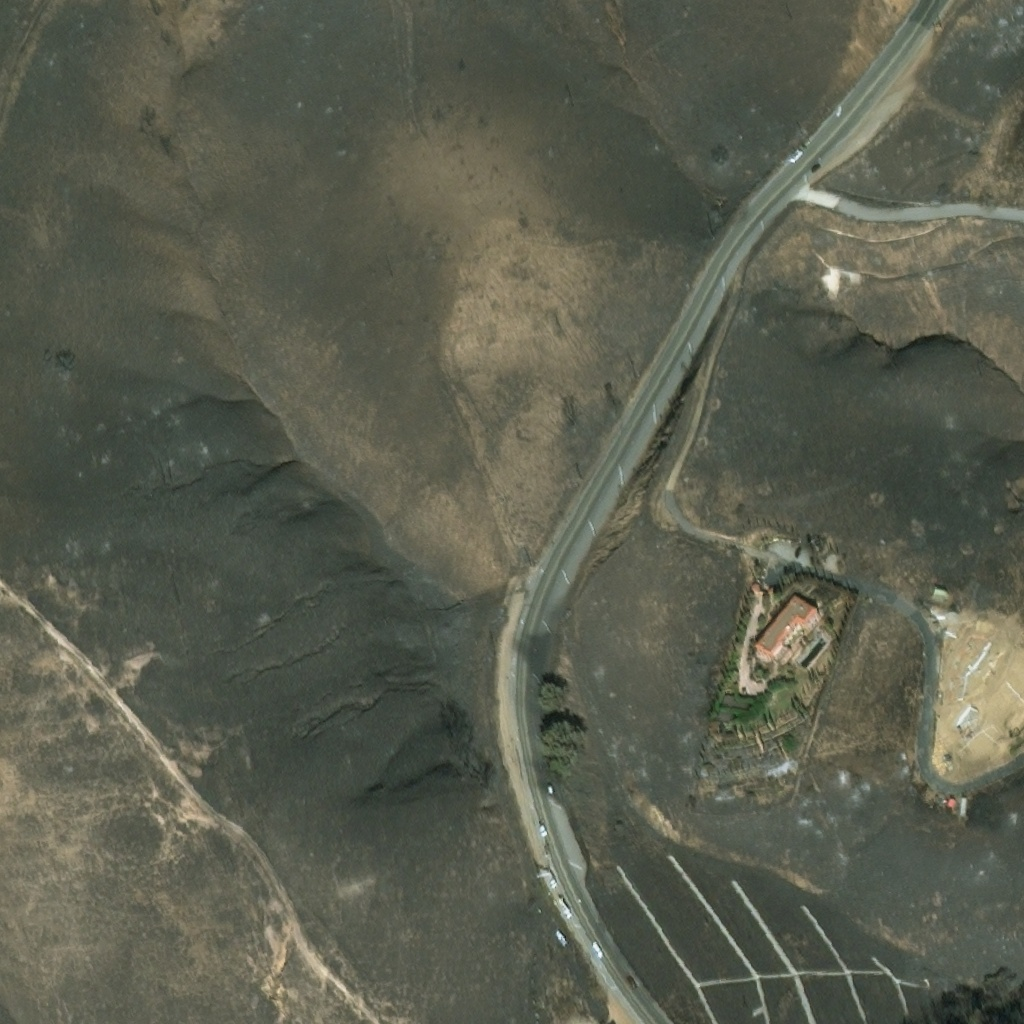0 no-damage: (753, 595, 818, 662), (720, 694, 750, 712), (930, 585, 946, 600), (959, 797, 967, 815), (718, 714, 732, 724), (766, 584, 776, 593), (946, 797, 955, 807), (750, 581, 758, 588)
3 destroyed: (953, 703, 978, 729), (810, 539, 820, 548), (945, 750, 950, 755)
